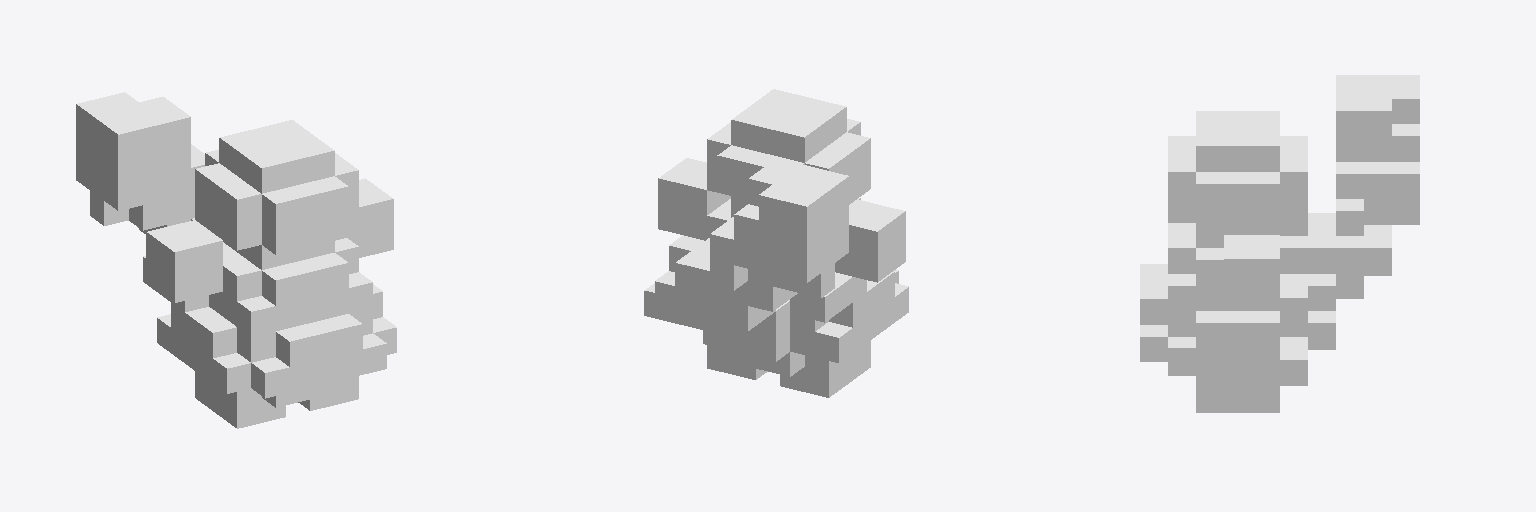
File: FatKnight.obj
3 renders of one model, left to right at view 1: azimuth 30°, elevation 25°; view 2: azimuth 150°, elevation 25°; view 3: azimuth 270°, elevation 25°, orthographic.
Visible parts, largest first — view 1: GnomeBase; view 2: GnomeBase; view 3: GnomeBase.
Part boxes in pixels (x1,y1,x2,y2): GnomeBase: (76, 92, 396, 428); GnomeBase: (644, 89, 908, 397); GnomeBase: (1140, 75, 1419, 412).
Size of the model in its own units: 0.9 by 1 by 1.